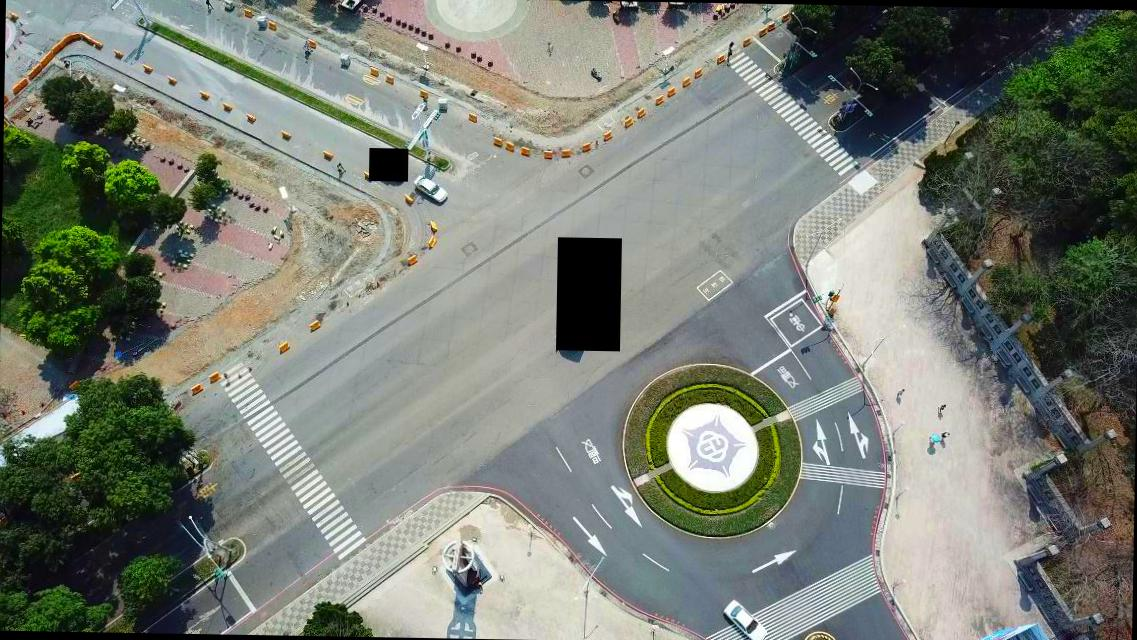vehicle: (721, 597, 769, 639), (412, 173, 447, 203)
